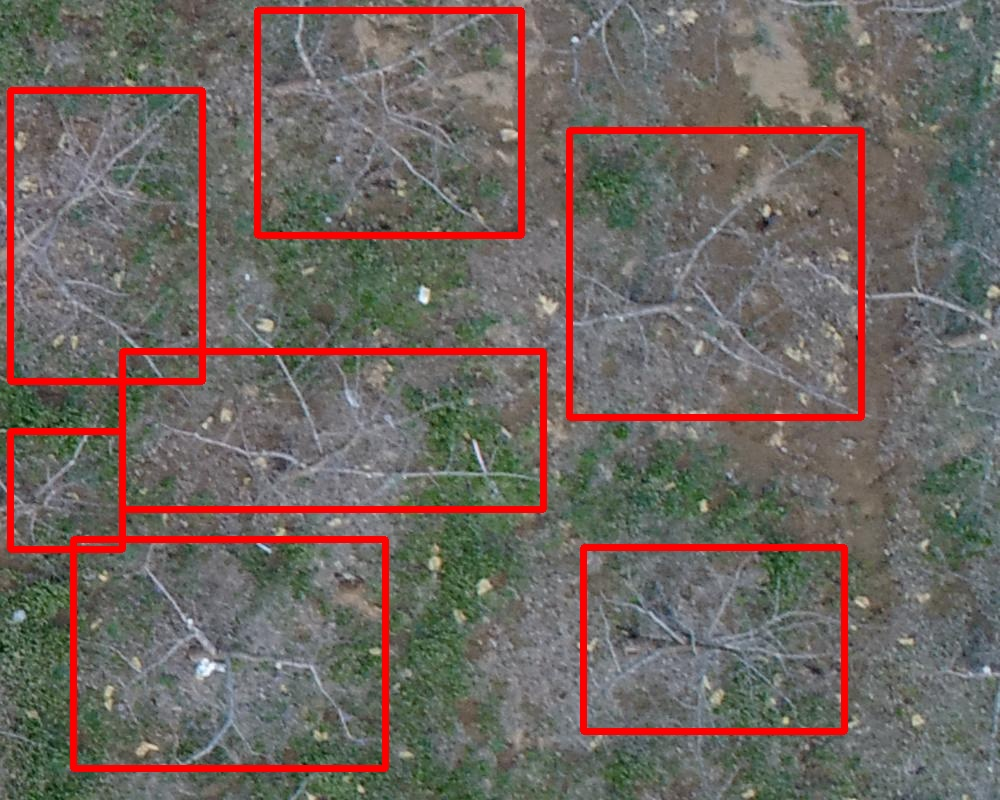apple: (569, 130, 861, 417), (73, 539, 385, 768), (122, 351, 543, 509), (257, 10, 521, 235), (10, 90, 202, 381), (583, 547, 844, 731), (10, 431, 122, 549)
